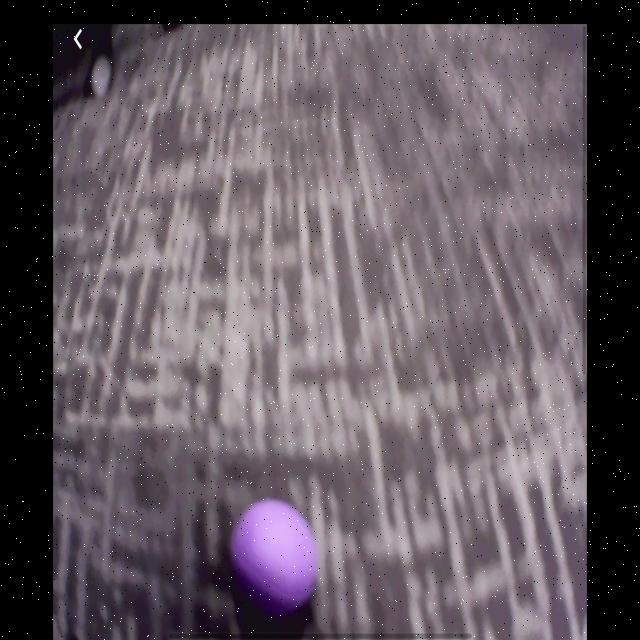ball: (228, 497, 319, 614)
